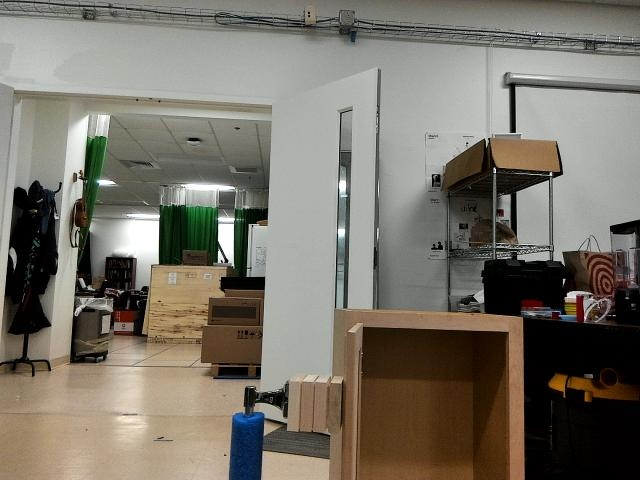noodle_handle: (225, 405, 270, 480)
